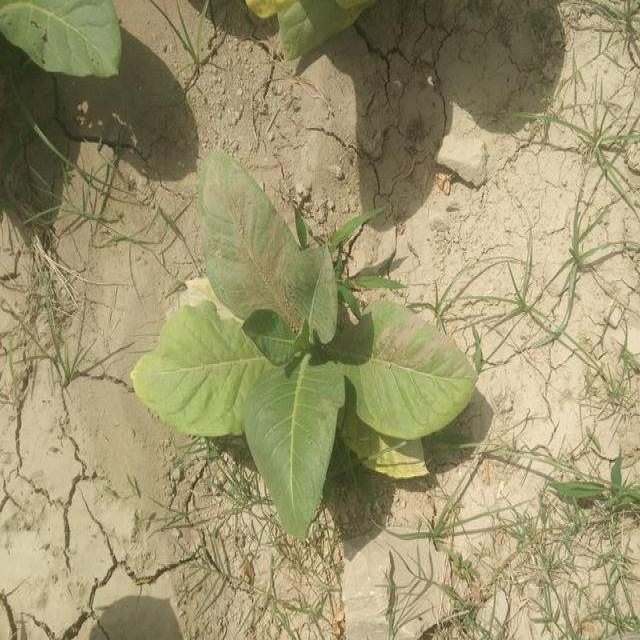crop: (133, 172, 463, 512), (10, 0, 134, 78)
